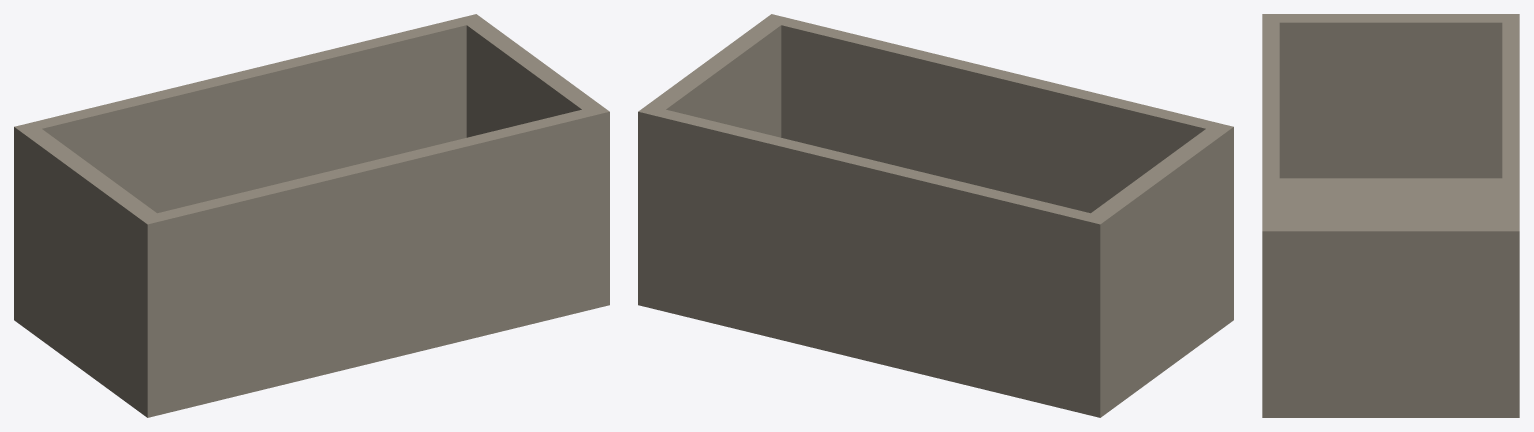
Rendered from rec_3x1.5.fbx.
3 renders of one model, left to right at view 1: azimuth 30°, elevation 25°; view 2: azimuth 150°, elevation 25°; view 3: azimuth 270°, elevation 25°, orthographic. The views are drawn at different scales.
Parts seen in each view (by area): view 1: geo_rec_02; view 2: geo_rec_02; view 3: geo_rec_02.
Boxes of the visible parts, x1,y1,x2,y2 form: geo_rec_02: (14,14,609,417); geo_rec_02: (638,14,1233,417); geo_rec_02: (1262,14,1519,417).
Size of the model in its own units: 300 by 120 by 150.
